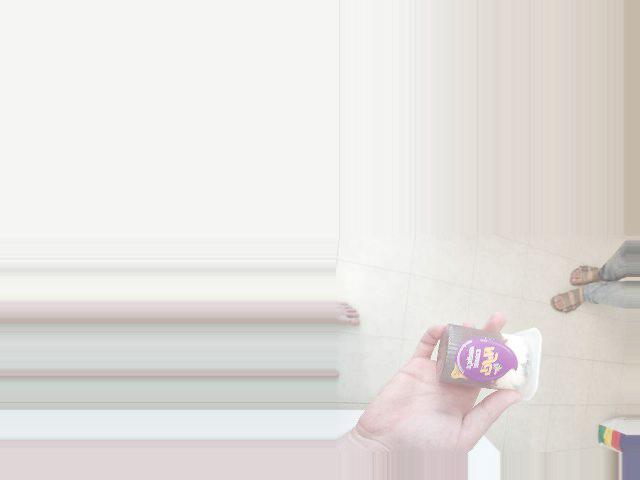milky: (421, 325, 540, 387)
